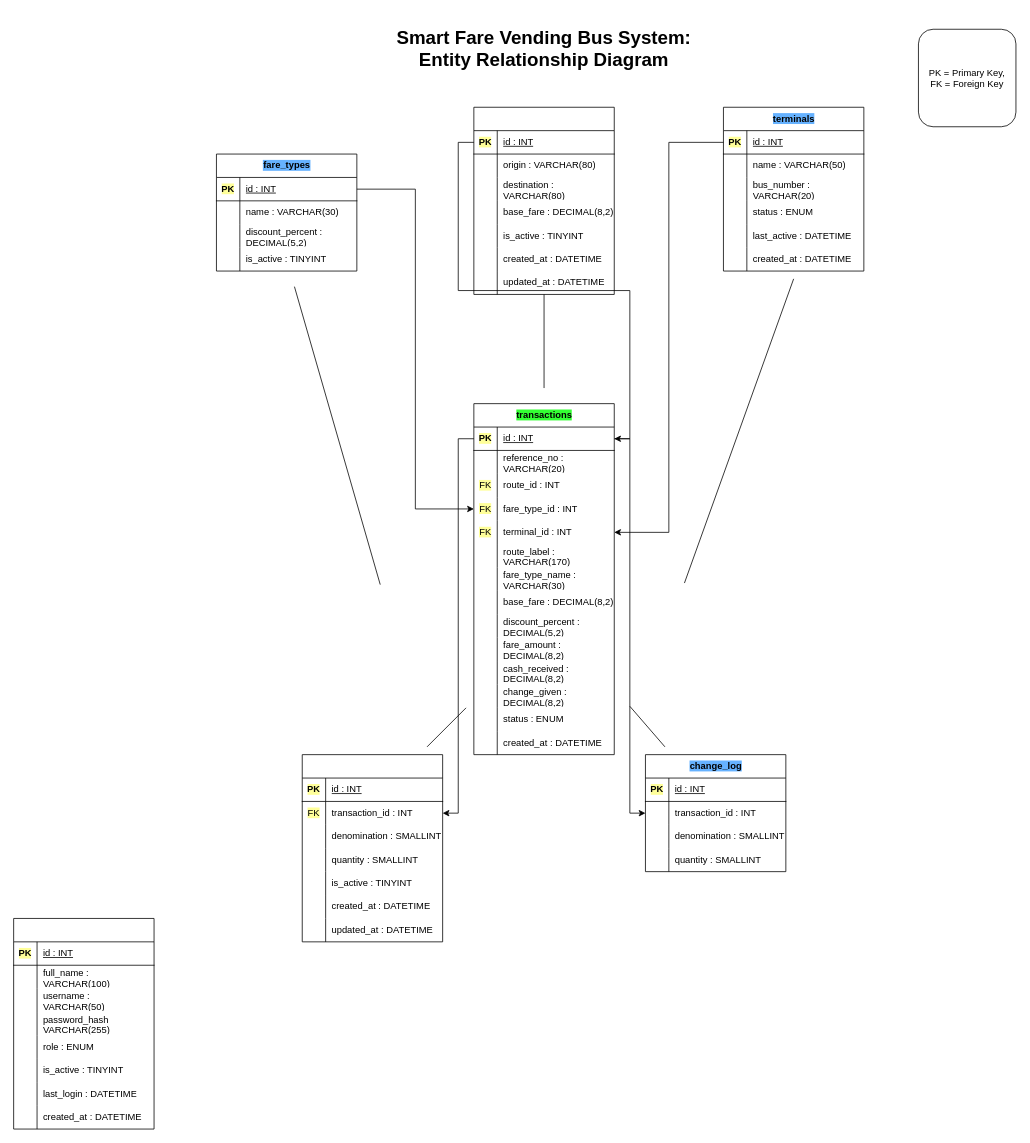
The diagram is 1030 pixels wide and 1143 high, and some of its shapes have lost their labels. The box of each missing label's shape, as (x1, y1, x2, y2) in pixels:
routes: (473, 106, 614, 294)
transaction_cash_log: (301, 754, 443, 942)
users: (13, 918, 154, 1129)
